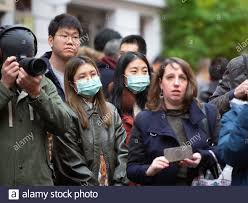no-mask: (157, 56, 199, 106), (44, 15, 86, 61)
with-mask: (59, 53, 105, 99), (114, 52, 154, 95)
